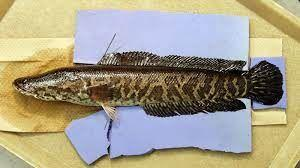Snakehead: (13, 50, 282, 118)
